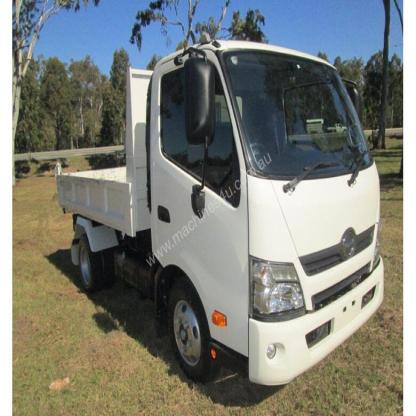dump_truck: (52, 27, 386, 403)
